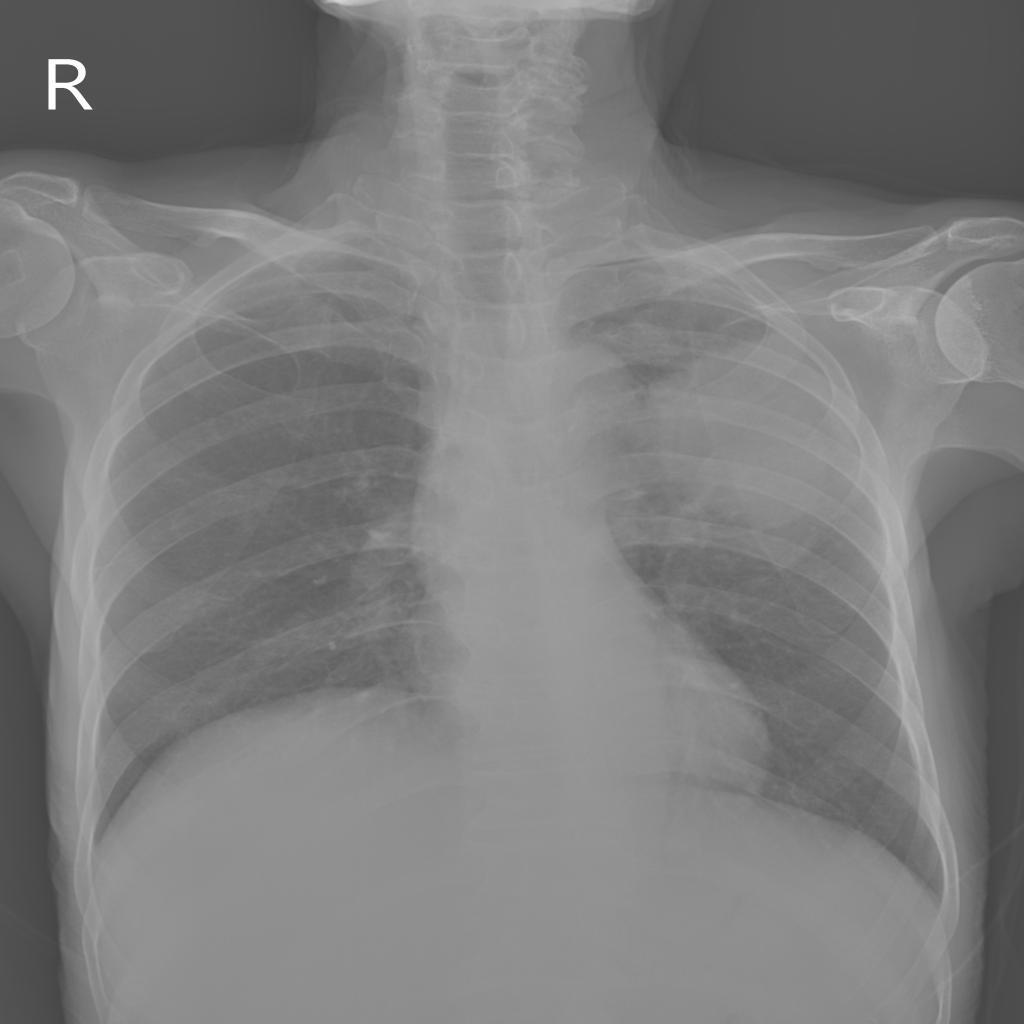Nodule: (642, 331, 874, 526)
